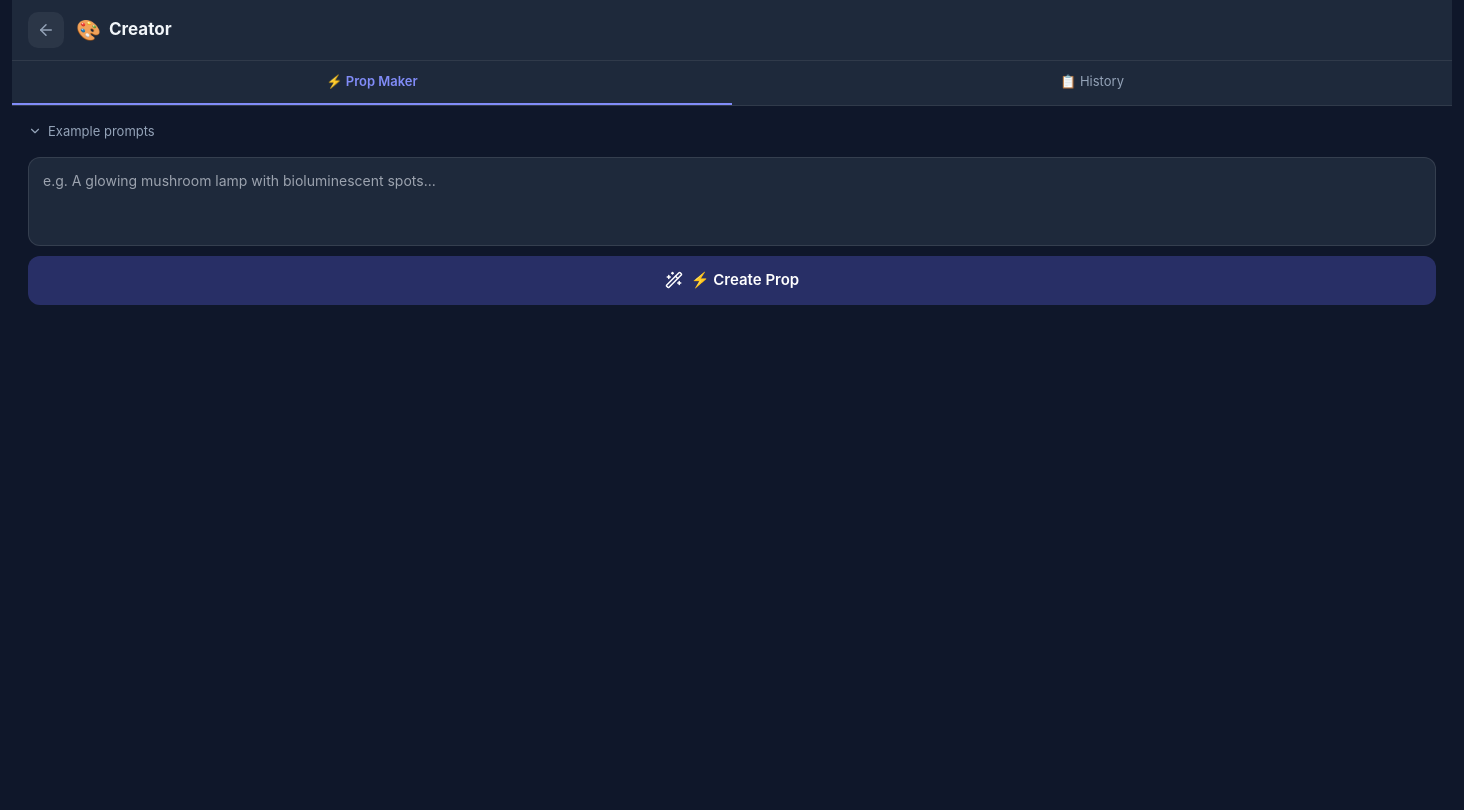
Test case: MobileCreatorView › starts generation on button click and shows Generating...
The width and height of the screenshot is (1464, 810).
Type "A neon sign" into the text box with placeholder "e.g. A glowing mushroom lamp with bioluminescent spots..." at (732, 202), box [28,157,1436,246]
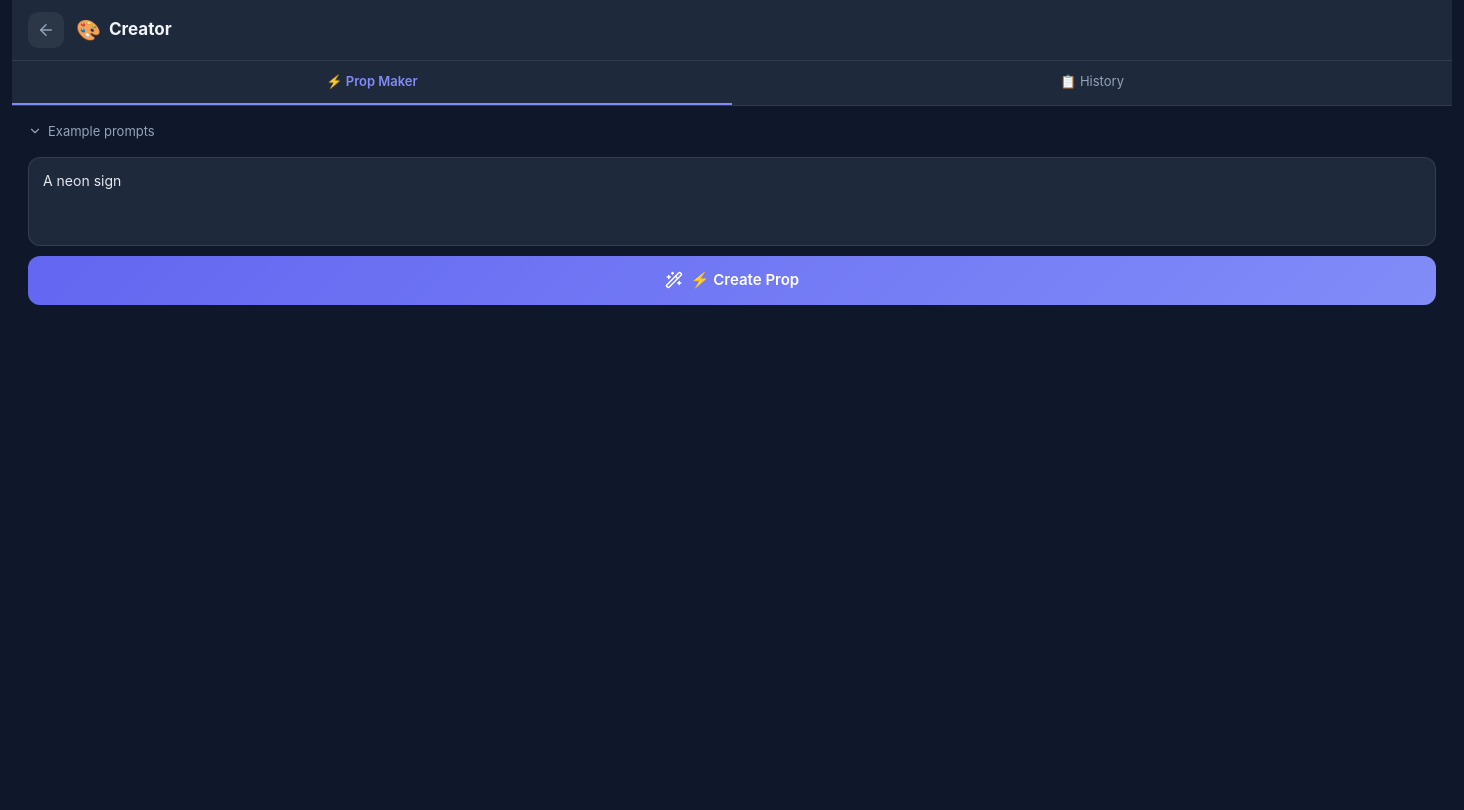
Click the button "⚡ Create Prop" at (732, 280), box [28,256,1436,304]
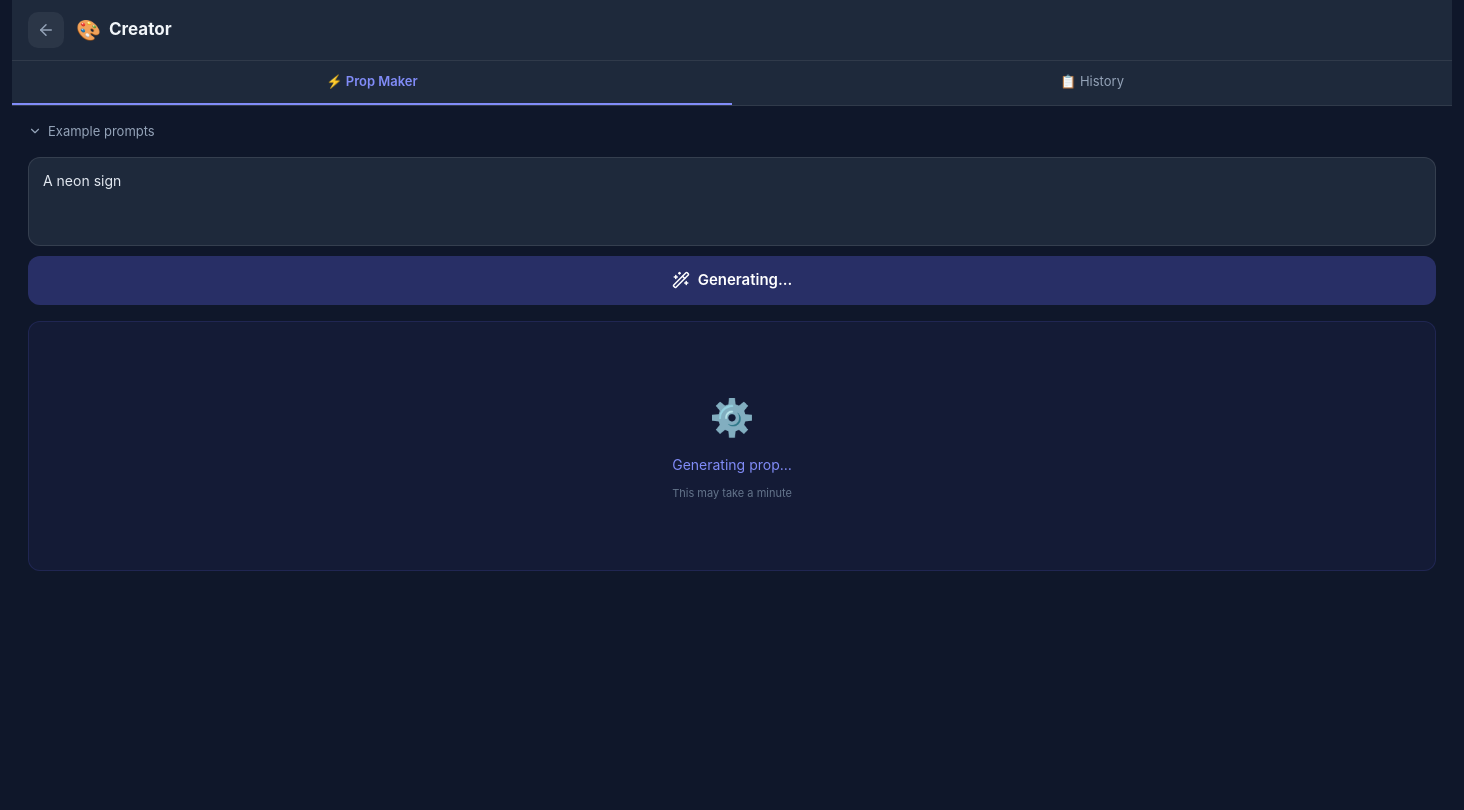
Result: the button "Generating..." is shown at [28,256,1436,304]
